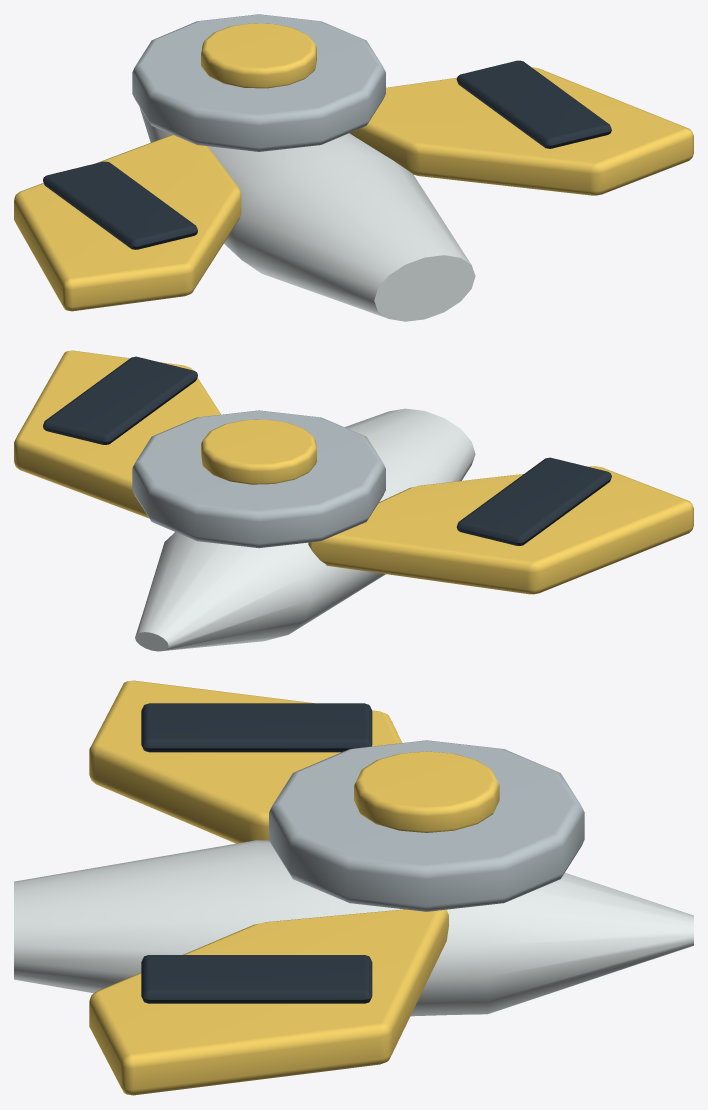
The model's file is WingBeacon114.fbx.
3 renders of one model, top to bottom at view 1: azimuth 30°, elevation 25°; view 2: azimuth 150°, elevation 25°; view 3: azimuth 270°, elevation 25°, orthographic. The views are drawn at different scales.
Visible parts, largest first — view 1: Support beacon chassis, Swept wing.033, Comms dish, Swept wing.032, Array insulator, Array insulator.001, Beacon light; view 2: Swept wing.032, Support beacon chassis, Comms dish, Swept wing.033, Array insulator.001, Array insulator, Beacon light; view 3: Support beacon chassis, Swept wing.033, Comms dish, Swept wing.032, Array insulator, Array insulator.001, Beacon light.
Boxes of the visible parts, bbox=[...] form: Support beacon chassis: bbox=[139, 107, 475, 321]; Swept wing.033: bbox=[349, 67, 693, 195]; Comms dish: bbox=[132, 14, 385, 151]; Swept wing.032: bbox=[14, 134, 241, 311]; Array insulator: bbox=[43, 161, 197, 249]; Array insulator.001: bbox=[456, 60, 611, 148]; Beacon light: bbox=[201, 23, 316, 88]; Swept wing.032: bbox=[308, 466, 693, 594]; Support beacon chassis: bbox=[135, 408, 475, 651]; Comms dish: bbox=[132, 410, 385, 548]; Swept wing.033: bbox=[14, 350, 220, 518]; Array insulator.001: bbox=[43, 356, 197, 444]; Array insulator: bbox=[456, 457, 611, 545]; Beacon light: bbox=[201, 419, 316, 484]; Support beacon chassis: bbox=[14, 840, 693, 1016]; Swept wing.033: bbox=[89, 909, 448, 1095]; Comms dish: bbox=[269, 740, 584, 911]; Swept wing.032: bbox=[89, 680, 402, 843]; Array insulator: bbox=[141, 703, 372, 752]; Array insulator.001: bbox=[141, 955, 372, 1003]; Beacon light: bbox=[354, 751, 499, 832].
Size of the model in its own units: 149 by 40.5 by 112.
